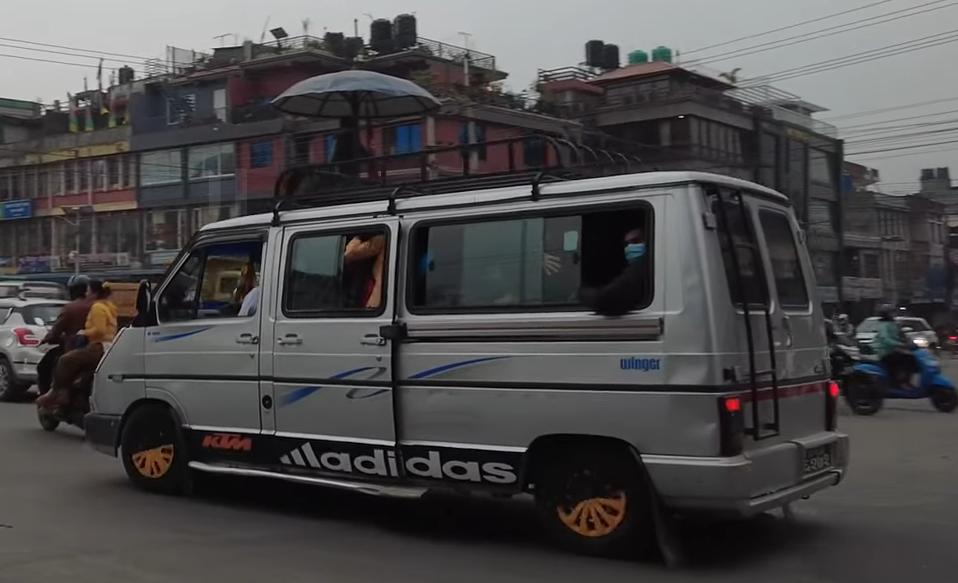van: (79, 162, 859, 547)
